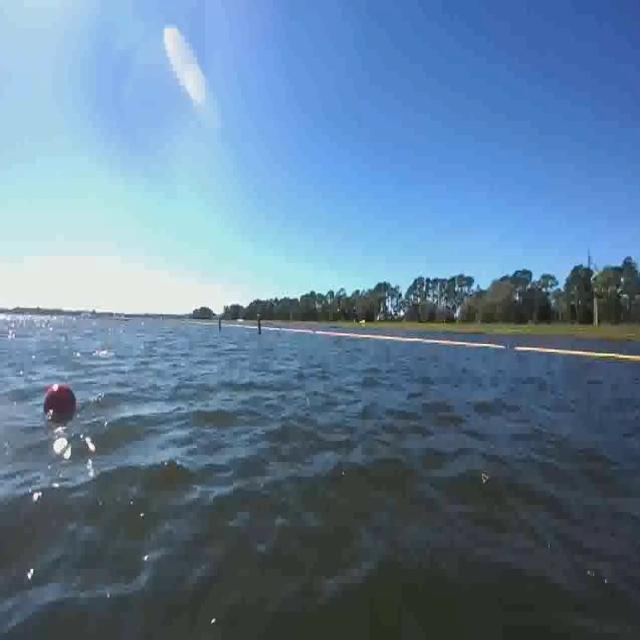red-buoy: (46, 384, 76, 417)
